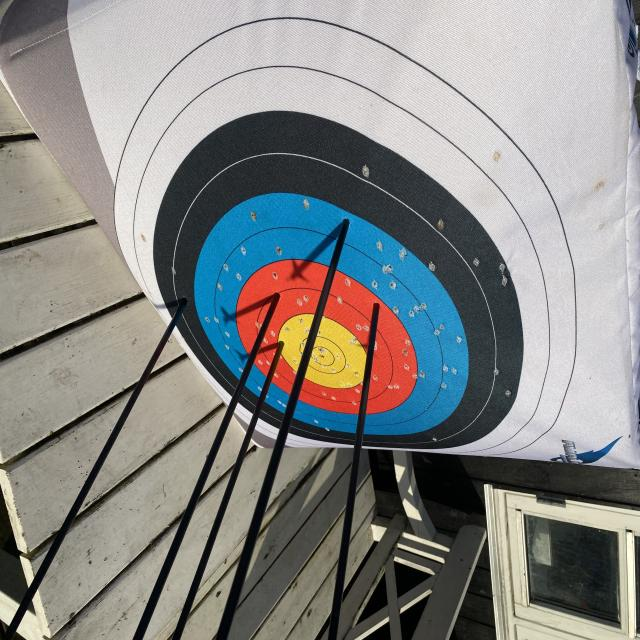Arrow_Black: (170, 291, 200, 326)
Arrow_Blue: (339, 208, 355, 244)
Arrow_Red: (265, 278, 288, 314), (367, 291, 387, 325)
Arrow_Yellow: (270, 338, 290, 358)
